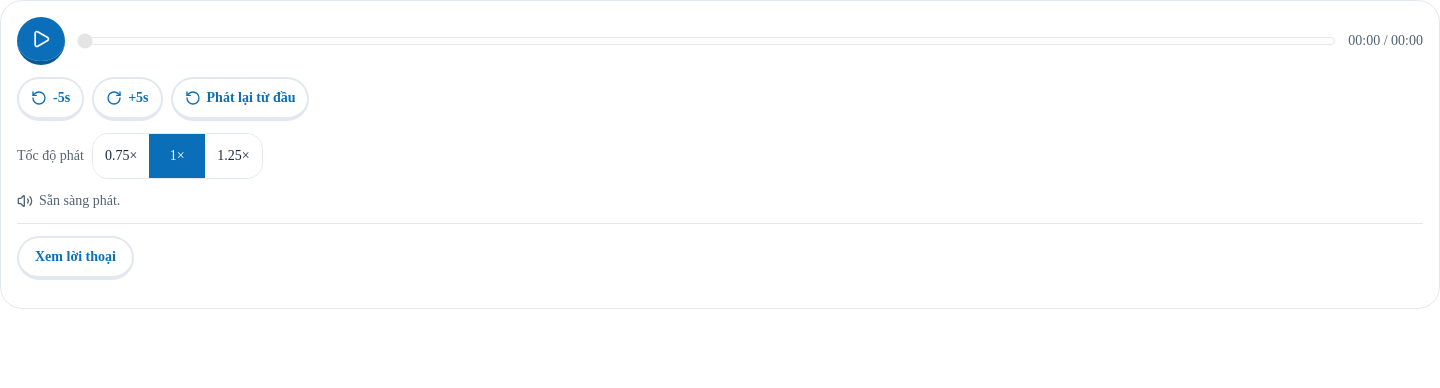
Test: QuestionMaterial › có audio, mặc định luyện: trình phát tự dựng, lời thoại ẩn cho tới khi bật
This screenshot has width=1440, height=388.
Expected: the slider named "Thanh tua audio" is shown, [77,19,1336,63]
Expected: the text "이 원피스 좀 맡기려고요." is not shown
Click the button "Xem lời thoại".
click(75, 258)  # box [17,236,134,280]
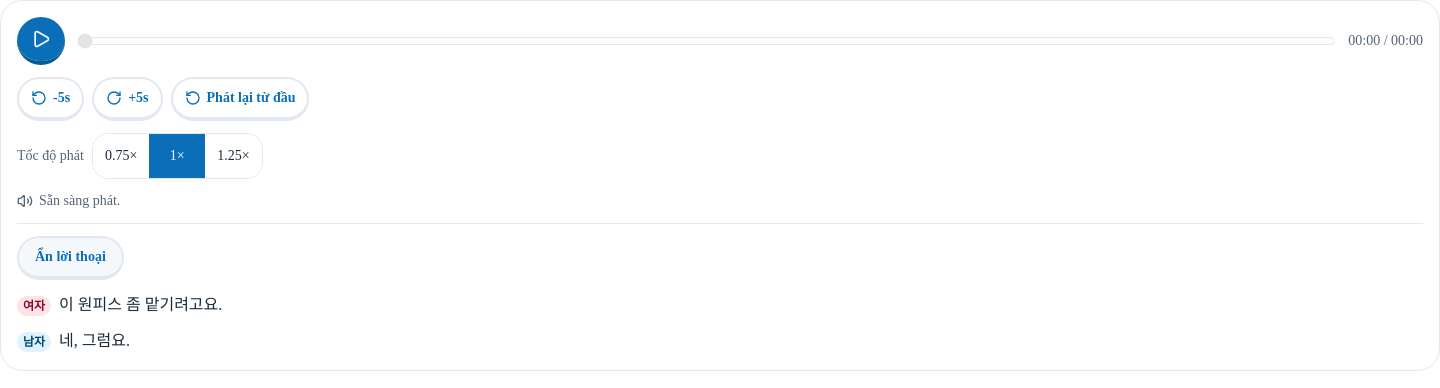
Expected: the text "이 원피스 좀 맡기려고요." is shown, [59,292,222,318]
